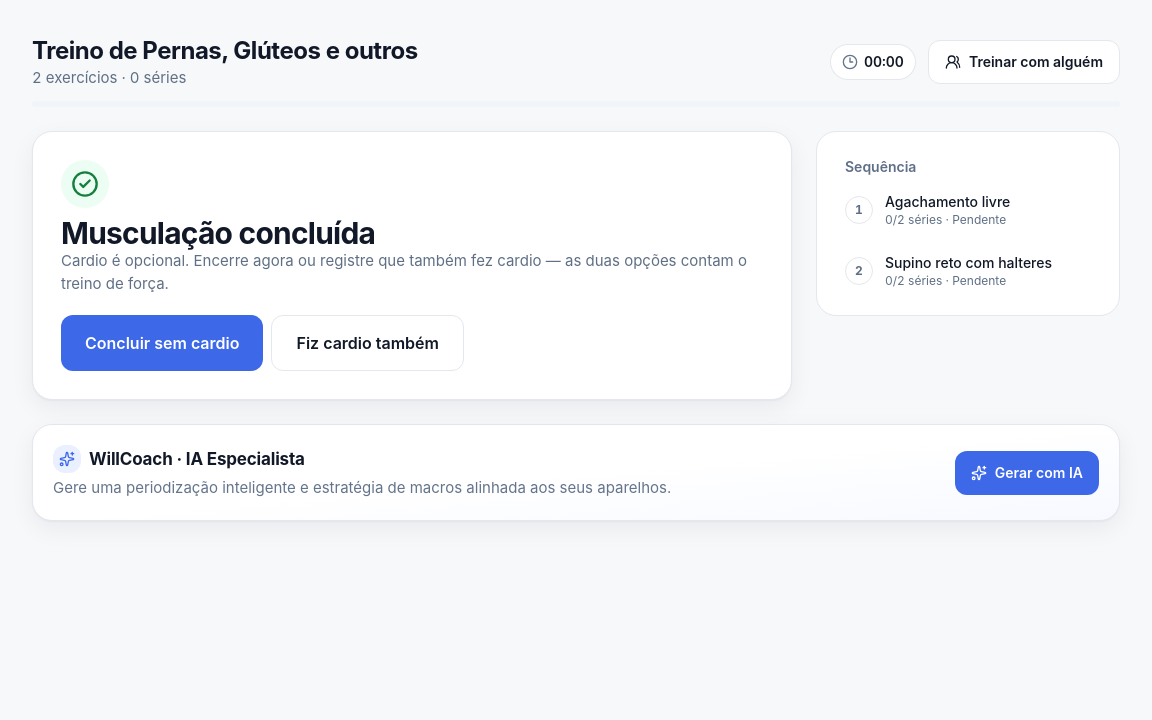
Test: WorkoutPageClient › keeps the workout finished when the weekly credit cannot be requested
Click the button "Concluir sem cardio".
click(162, 344)  # box [61,316,264,372]
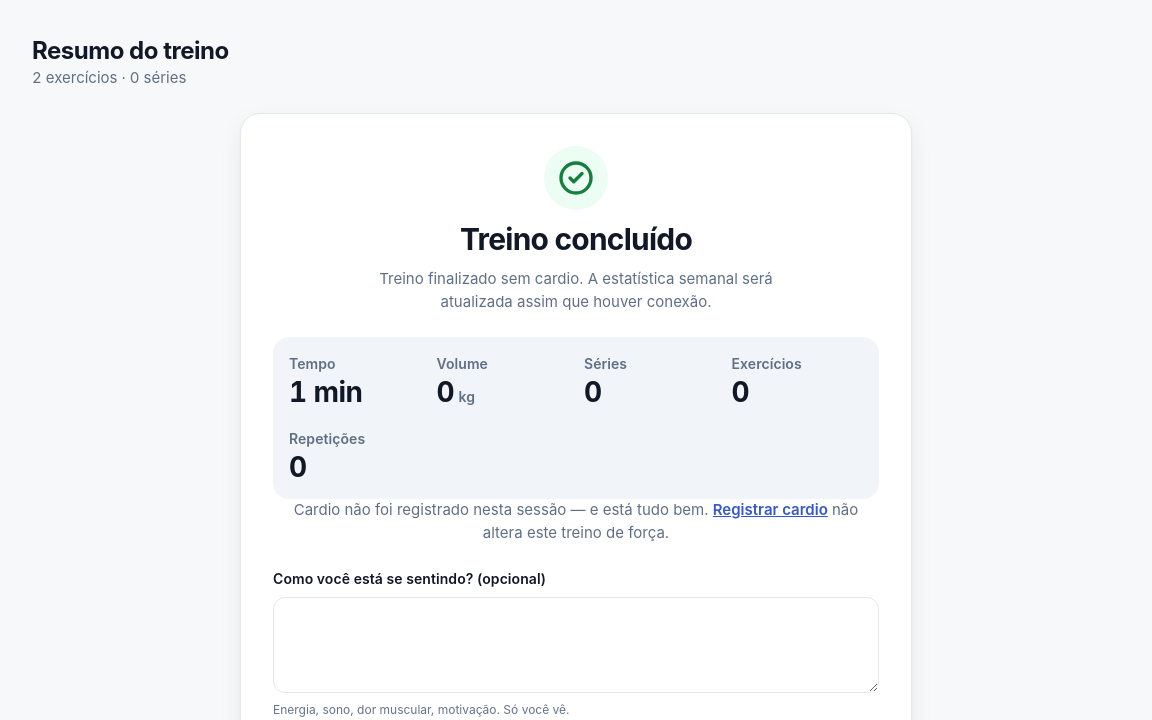
expect the heading "Treino concluído" is shown: met, box [460,222,692,256]
expect the text "assim que houver conexão" is shown: met, box [379,270,773,311]
